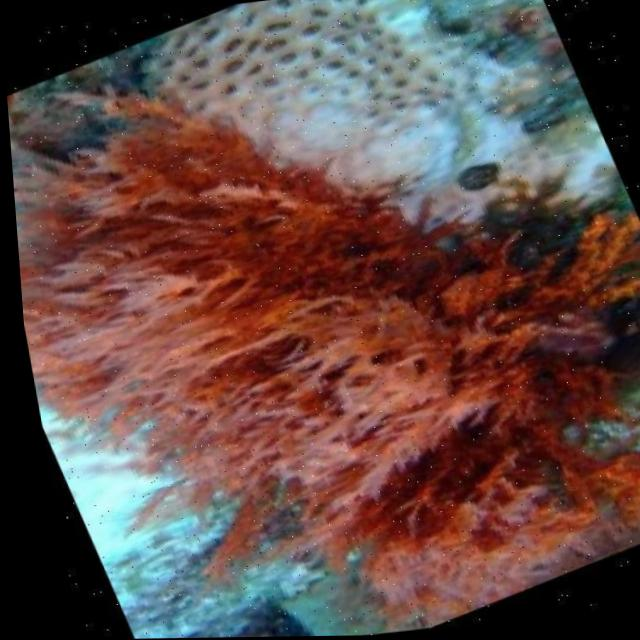Bleached Coral: (169, 0, 594, 221)
